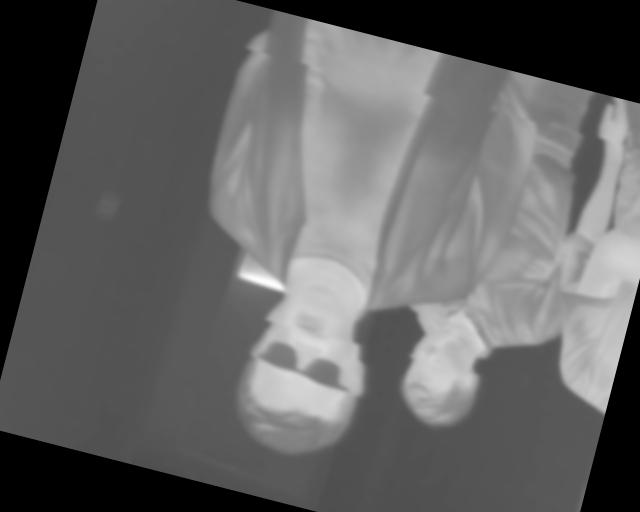face: (225, 284, 383, 470), (390, 311, 495, 436)
